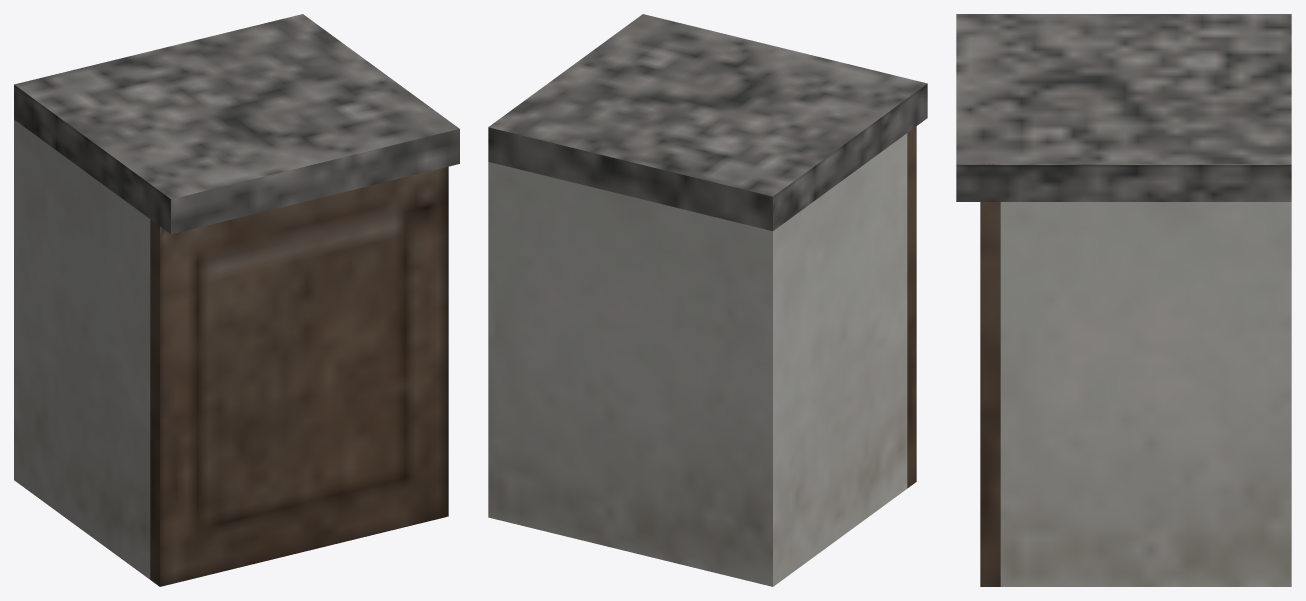
Rendered from SM_EC_House_Kitchen_Worktop_Complete04.fbx.
The picture shows the model from 3 angles, left to right: view 1: azimuth 30°, elevation 25°; view 2: azimuth 150°, elevation 25°; view 3: azimuth 270°, elevation 25°; orthographic projection. The views are drawn at different scales.
Visible parts, largest first — view 1: SM_EC_House_Kitchen_Worktop_Complete04, SM_EC_CupboardDoor_7.009; view 2: SM_EC_House_Kitchen_Worktop_Complete04, SM_EC_CupboardDoor_7.009; view 3: SM_EC_House_Kitchen_Worktop_Complete04, SM_EC_CupboardDoor_7.009.
Part boxes in pixels (<box>): SM_EC_House_Kitchen_Worktop_Complete04: <box>14,14,459,579</box>; SM_EC_CupboardDoor_7.009: <box>150,166,448,586</box>; SM_EC_House_Kitchen_Worktop_Complete04: <box>488,14,927,586</box>; SM_EC_CupboardDoor_7.009: <box>907,126,916,488</box>; SM_EC_House_Kitchen_Worktop_Complete04: <box>956,14,1291,586</box>; SM_EC_CupboardDoor_7.009: <box>980,164,1000,586</box>.
Bounding box in the file's own units: 0.8631 × 0.8121 × 1.13.
